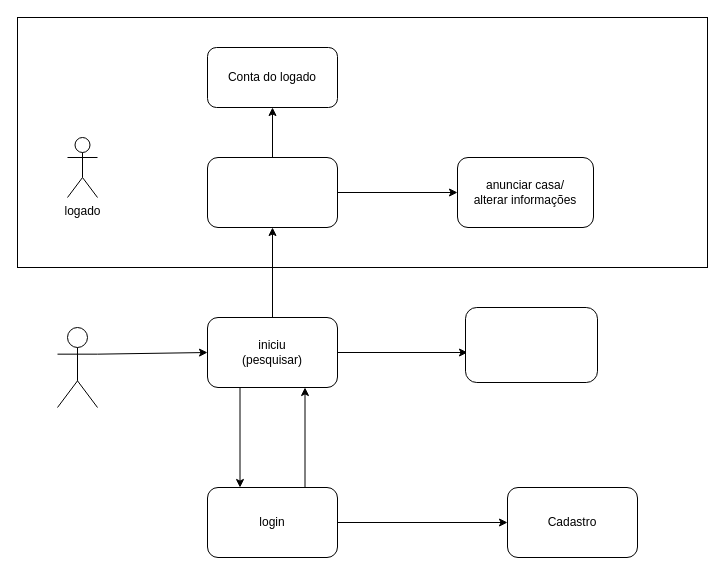
This 725x575 diagram has some shape labels left out. Each missing label, with the box of its shape:
anuncio da casa: (464, 306, 598, 382)
naoLogado: (56, 326, 98, 408)
pagina de anúncios (retirar anúncios): (206, 156, 338, 228)
